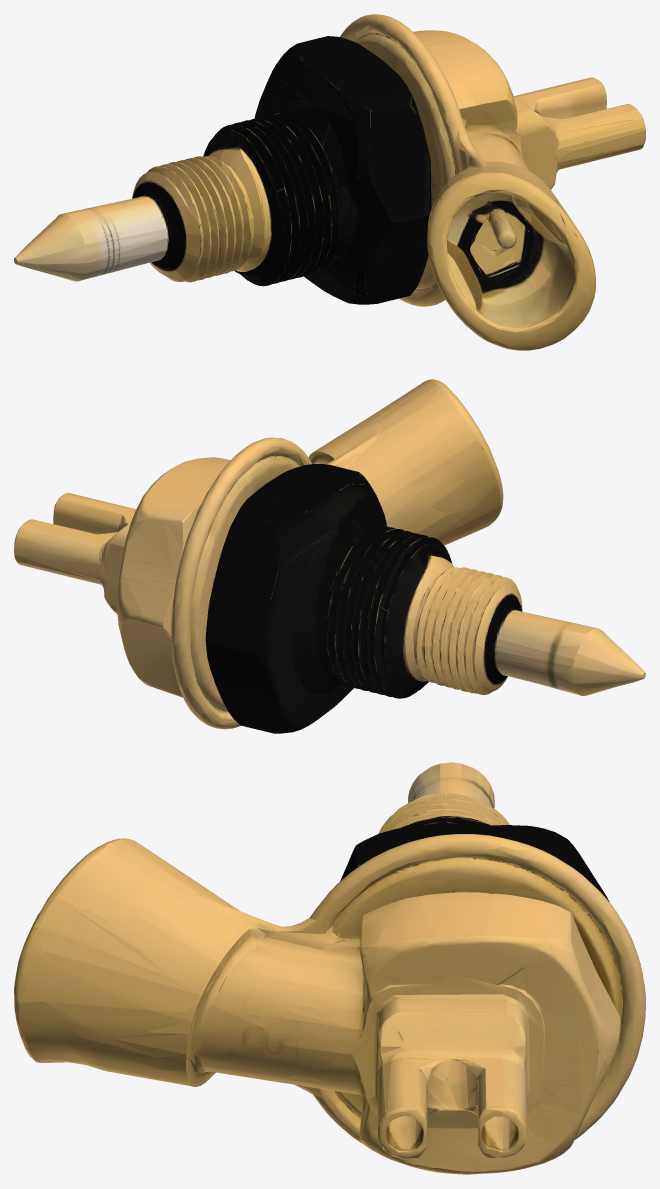
The model's file is temp-sensor.glb.
3 views of the same model, one above another, from view 1: azimuth 30°, elevation 25°; view 2: azimuth 150°, elevation 25°; view 3: azimuth 270°, elevation 25° (orthographic). The views are drawn at different scales.
Bounding box in the file's own units: 1.9 × 0.8182 × 1.38.
Materials: 1 (1 with a texture image).
